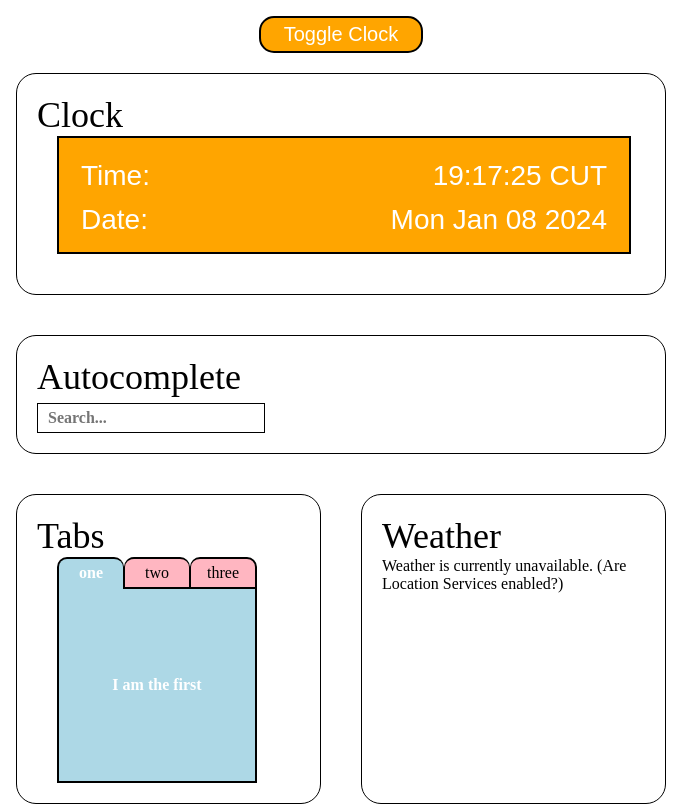
it: App › should toggle the Clock Widget when the "Toggle Clock" button is pushed
Click the button "Toggle Clock" at (341, 34), box [259,16,423,53]
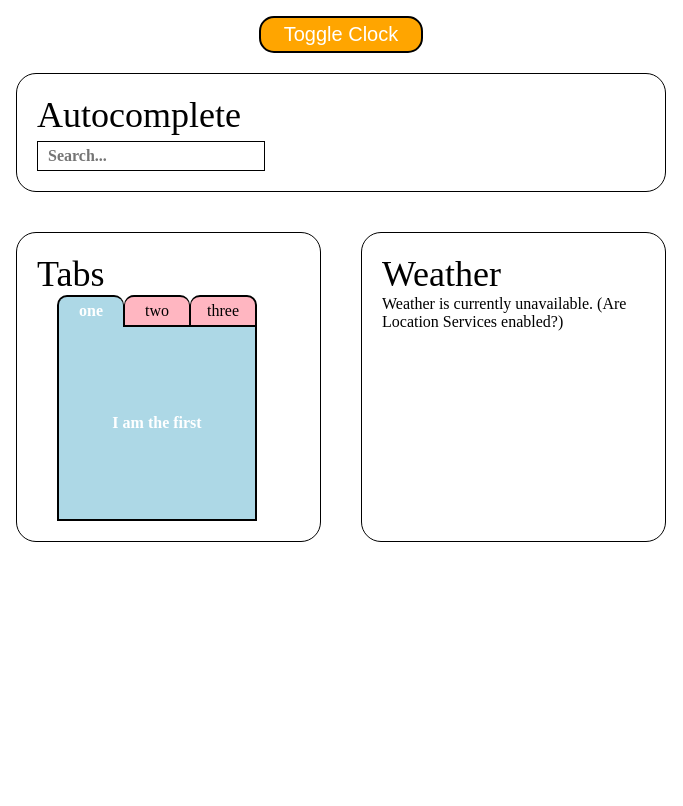
Click the button "Toggle Clock" at (341, 34), box [259,16,423,53]
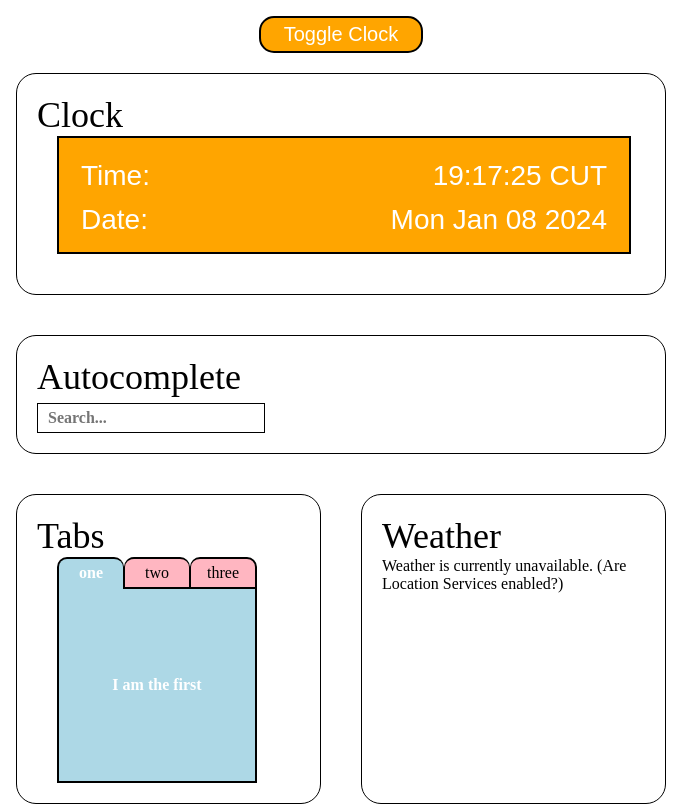
Check: the heading "Clock" is shown, box [37,95,123,135]
